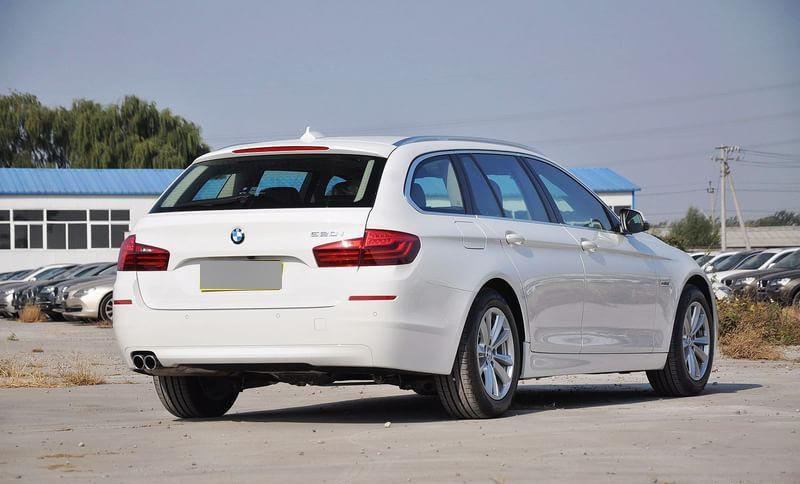Wagon: (112, 124, 719, 420)
